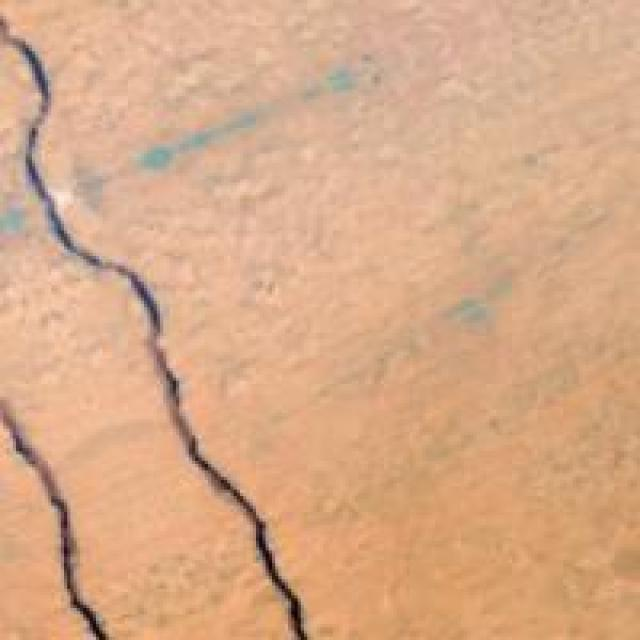Crack: (0, 6, 307, 636)
